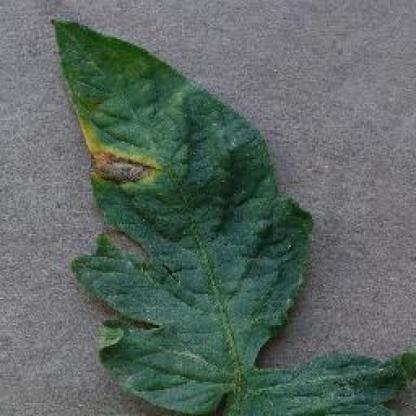Tomato_Blight: (54, 20, 416, 416)
